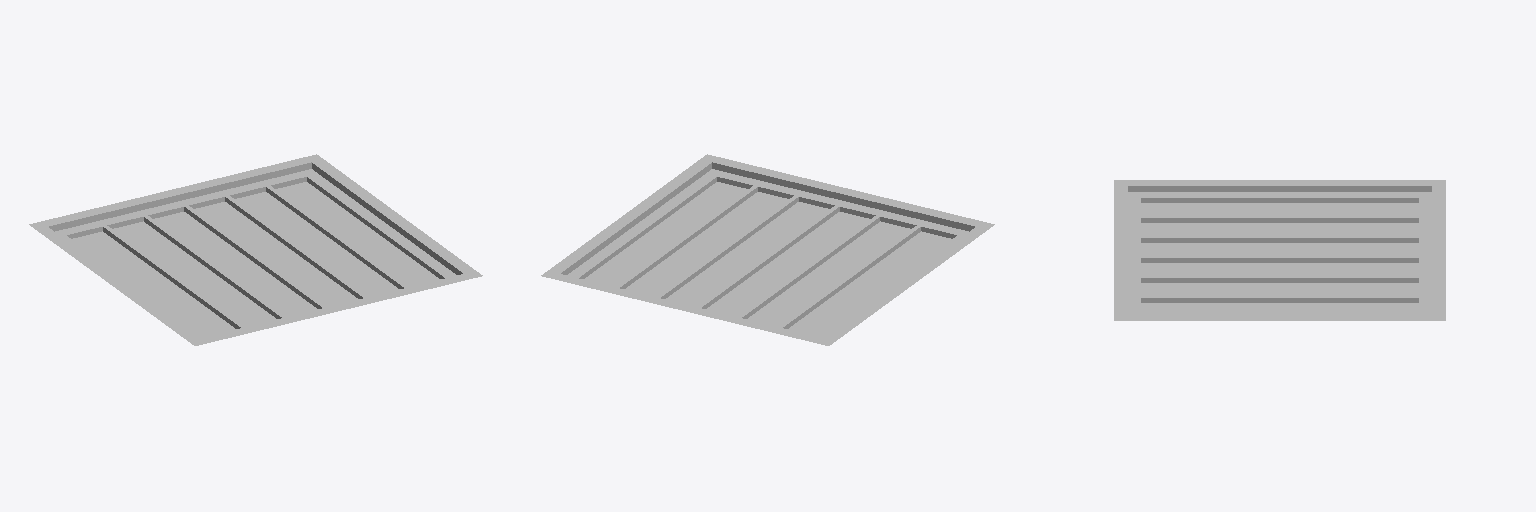
Rendered from ground_2.obj.
The picture shows the model from 3 angles: view 1: azimuth 30°, elevation 25°; view 2: azimuth 150°, elevation 25°; view 3: azimuth 270°, elevation 25°; orthographic projection.
Parts seen in each view (by area): view 1: Cube.002_Cube.005; view 2: Cube.002_Cube.005; view 3: Cube.002_Cube.005.
Boxes of the visible parts, box(x1,y1,x2,y2) form: Cube.002_Cube.005: box(29, 154, 482, 345); Cube.002_Cube.005: box(541, 154, 994, 345); Cube.002_Cube.005: box(1114, 180, 1445, 320).
Size of the model in its own units: 4 by 0.1504 by 4.